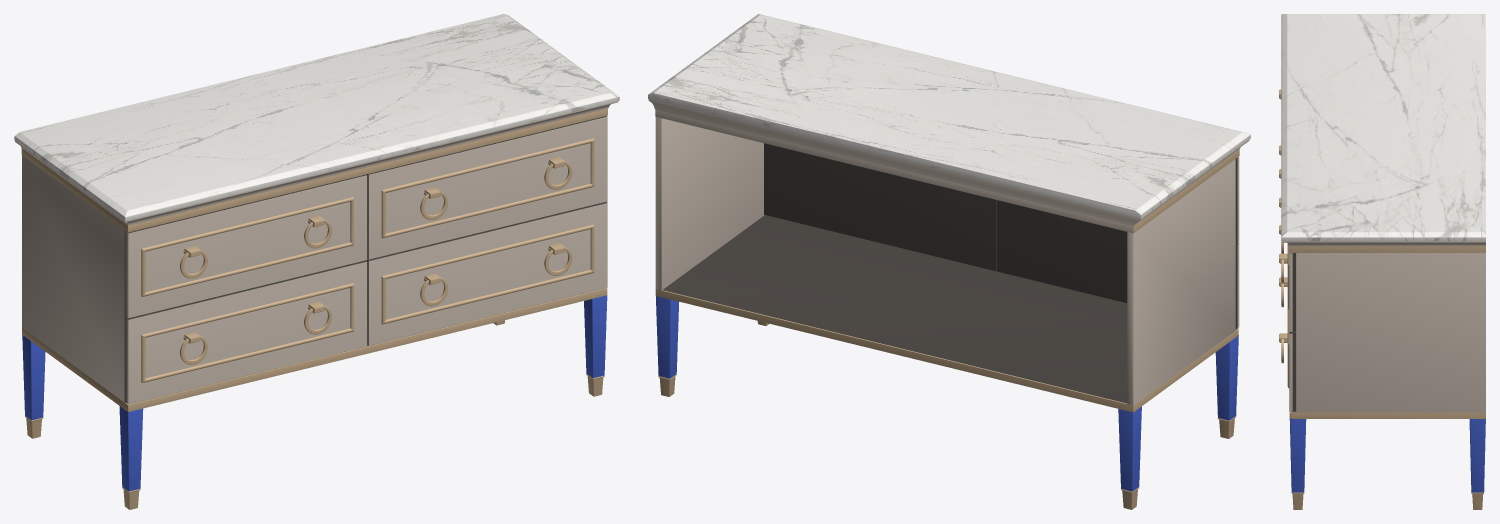
3 views of the same model, side by side, from view 1: azimuth 30°, elevation 25°; view 2: azimuth 150°, elevation 25°; view 3: azimuth 270°, elevation 25° (orthographic). The views are drawn at different scales.
Parts seen in each view (by area): view 1: AV05; view 2: AV05; view 3: AV05.
Part boxes in pixels (x1=…): AV05: x1=14, y1=14, x2=619, y2=509; AV05: x1=648, y1=14, x2=1250, y2=509; AV05: x1=1279, y1=14, x2=1485, y2=509.
Bounding box in the file's own units: 1.44 × 0.847 × 0.5665.
6 materials, 3 textured.
